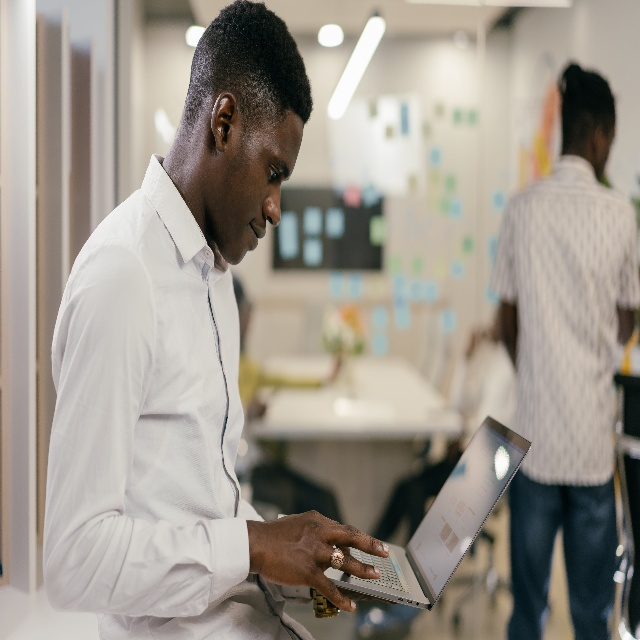Sin_guantes: (255, 509, 390, 612)
